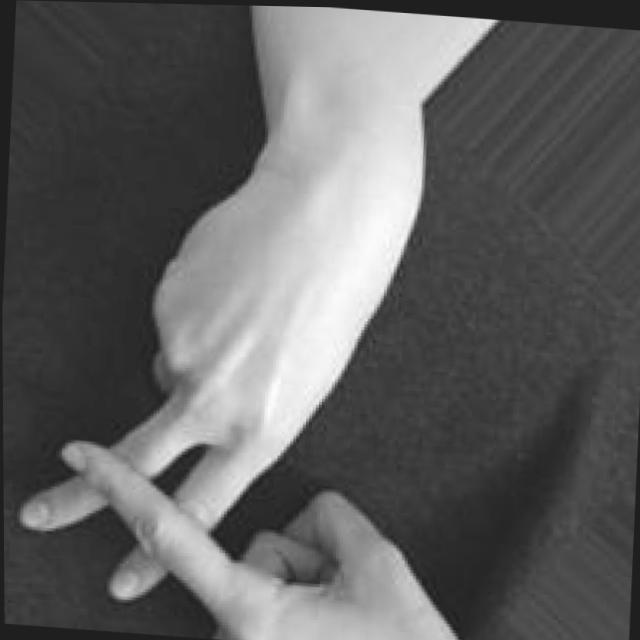A: (13, 221, 455, 640)
